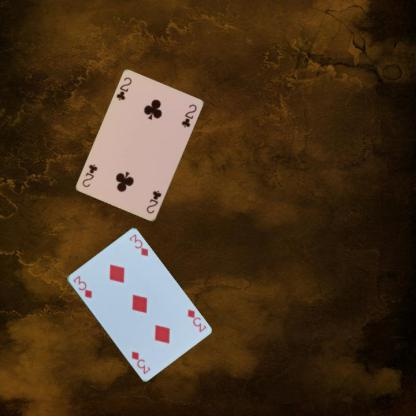2c: (144, 188, 163, 215), (114, 75, 133, 102)
3d: (184, 307, 207, 333), (71, 274, 93, 300)
